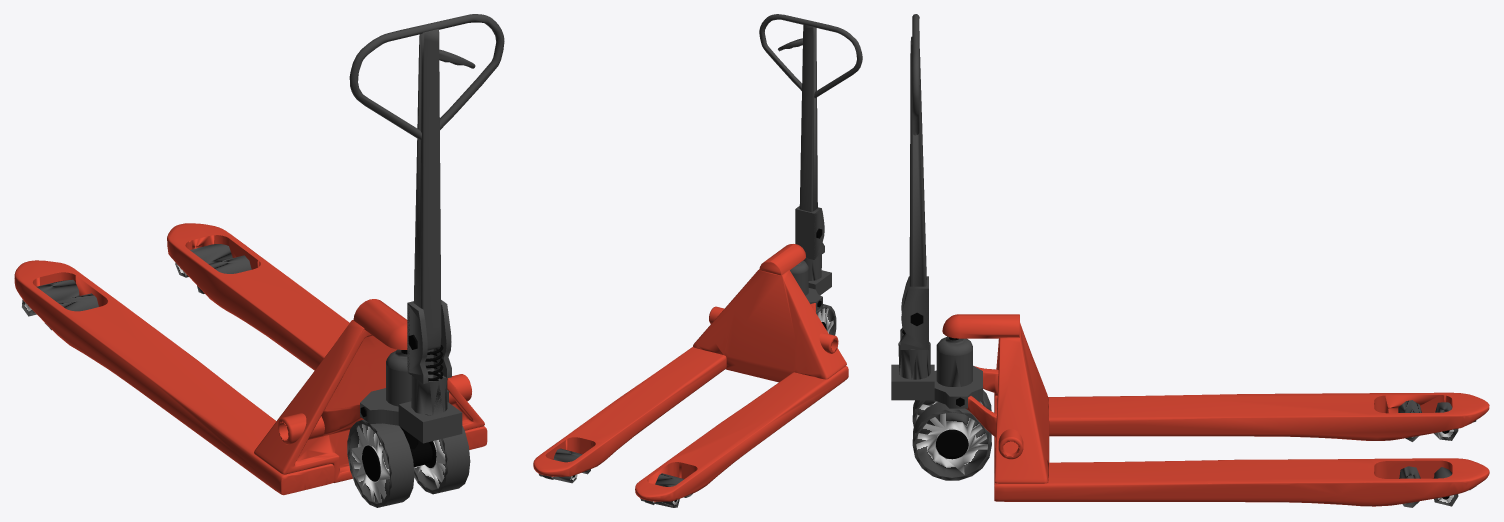
The model's file is simple_warehouse_pallet_hand_truck.glb.
3 views of the same model, side by side, from view 1: azimuth 30°, elevation 25°; view 2: azimuth 150°, elevation 25°; view 3: azimuth 270°, elevation 25° (orthographic). The views are drawn at different scales.
Visible parts, largest first — view 1: main_body, hydrolic_arm_1, rear_wheel, hydrolic_support, hydrolics_1, front_pump_wheel, wheel_supports; view 2: main_body, hydrolic_arm_1, front_pump_wheel, hydrolics_1, hydrolic_support, rear_wheel; view 3: main_body, hydrolic_arm_1, rear_wheel, hydrolics_1, hydrolic_support, front_pump_wheel.
Part boxes in pixels (box(x1,y1,x2,y2)): main_body: box(14, 223, 487, 495); hydrolic_arm_1: box(349, 14, 504, 383); rear_wheel: box(347, 419, 470, 507); hydrolic_support: box(360, 388, 462, 443); hydrolics_1: box(386, 349, 447, 415); front_pump_wheel: box(22, 244, 251, 330); wheel_supports: box(400, 427, 432, 467); main_body: box(533, 244, 848, 501); hydrolic_arm_1: box(759, 14, 862, 259); front_pump_wheel: box(539, 448, 692, 507); hydrolics_1: box(790, 254, 821, 295); hydrolic_support: box(805, 270, 831, 310); rear_wheel: box(816, 304, 836, 335); main_body: box(942, 314, 1489, 506); hydrolic_arm_1: box(900, 14, 928, 349); rear_wheel: box(912, 390, 991, 480); hydrolics_1: box(898, 336, 972, 386); hydrolic_support: box(891, 364, 982, 408); front_pump_wheel: box(1398, 400, 1458, 507).
Bounding box in the file's own units: 171 × 382 × 482.
Materials: 3 (3 with a texture image).
